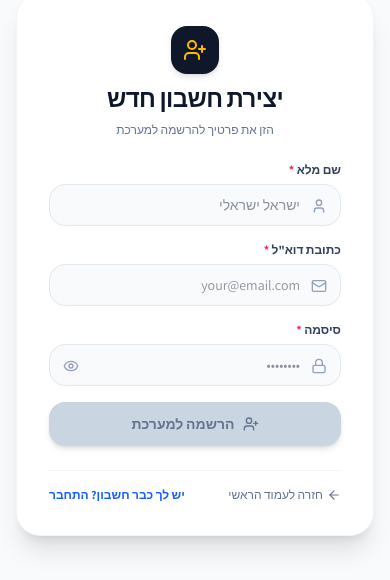
Scenario: SignUpPage › shows a validation error for a password shorter than 6 characters
The image size is (390, 580).
Type "123" into the password field labelled "סיסמה *". click: (195, 365)
box: [49,344,341,386]
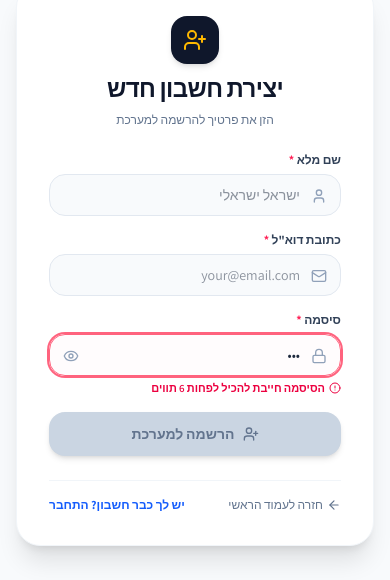
Expected: the button "הרשמה למערכת" is disabled, [49,412,341,456]
Result: the text "הסיסמה חייבת להכיל לפחות 6 תווים" is shown at [151,380,325,396]
